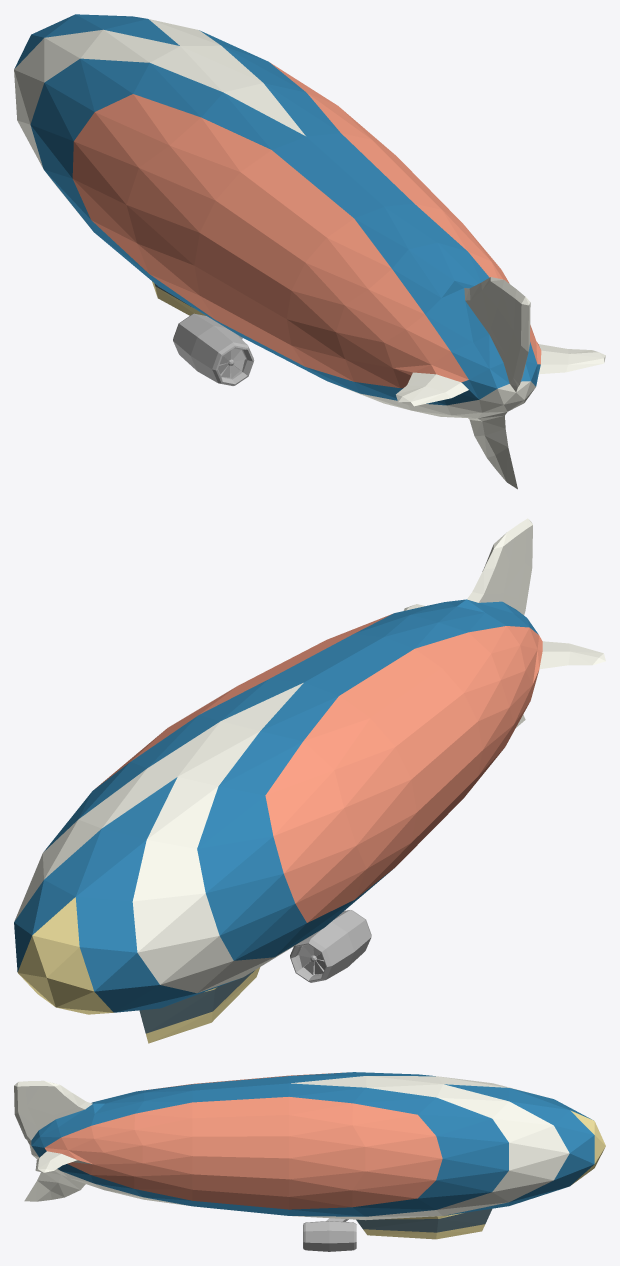
File: blimp.dae
The picture shows the model from 3 angles, top to bottom: view 1: azimuth 30°, elevation 25°; view 2: azimuth 150°, elevation 25°; view 3: azimuth 270°, elevation 25°; orthographic projection. The views are drawn at different scales.
Parts seen in each view (by area): view 1: blimp; view 2: blimp; view 3: blimp.
Part boxes in pixels (bbox=[...]): blimp: bbox=[14, 14, 605, 489]; blimp: bbox=[14, 518, 605, 1043]; blimp: bbox=[14, 1072, 605, 1251].
Size of the model in its own units: 3.11 by 11.22 by 3.22.
